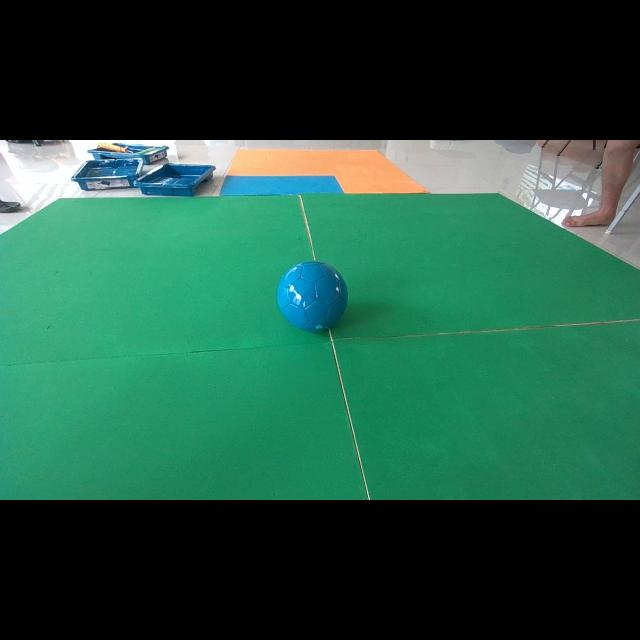B: (278, 261, 348, 332)
